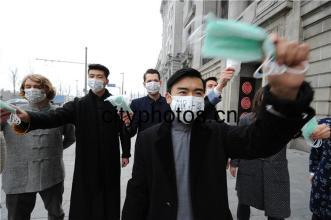OK: (173, 87, 206, 122), (24, 80, 45, 101), (87, 75, 107, 93), (145, 75, 161, 96), (207, 84, 220, 97)
